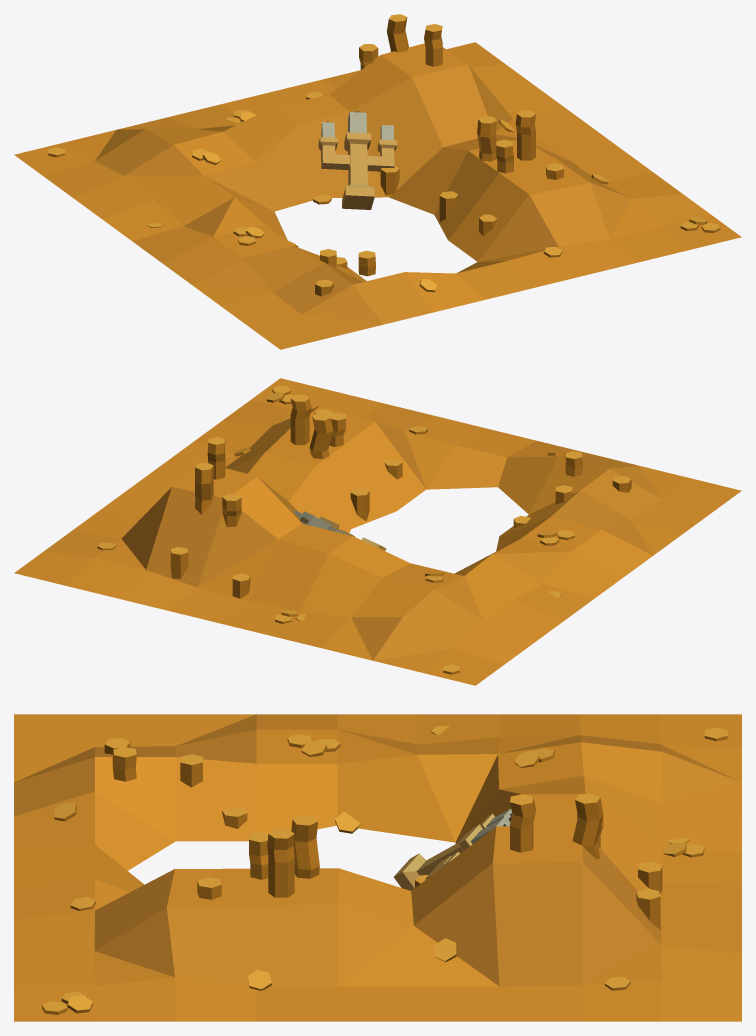
File: ST_Env_Gold_Flat_04.fbx
The picture shows the model from 3 angles, top to bottom: view 1: azimuth 30°, elevation 25°; view 2: azimuth 150°, elevation 25°; view 3: azimuth 270°, elevation 25°; orthographic projection. The views are drawn at different scales.
Visible parts, largest first — view 1: ST_Env_Gold_Flat_04; view 2: ST_Env_Gold_Flat_04; view 3: ST_Env_Gold_Flat_04.
Part boxes in pixels (x1,y1,x2,y2): ST_Env_Gold_Flat_04: (14, 14, 741, 349); ST_Env_Gold_Flat_04: (14, 378, 741, 685); ST_Env_Gold_Flat_04: (14, 714, 741, 1021).
Size of the model in its own units: 5 by 1.34 by 5.
